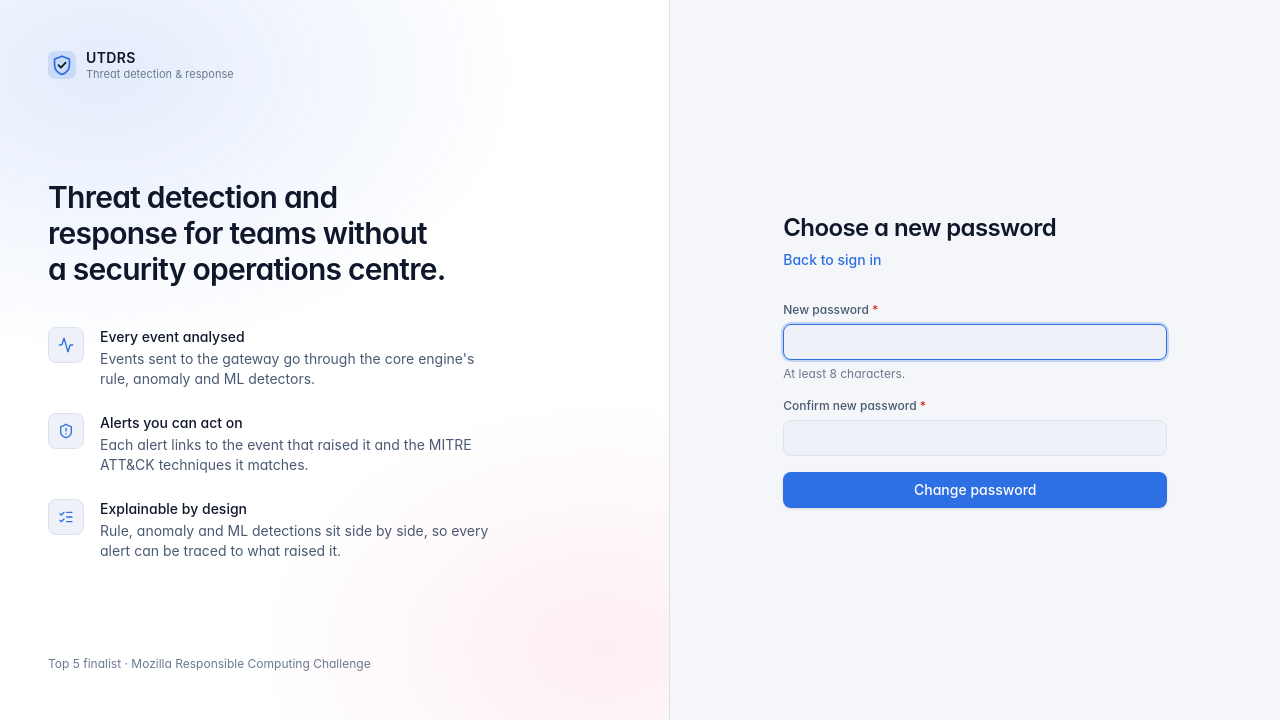
Test: account emails › explains an expired reset link
Step 1. Type "abcdefgh1" into the password field labelled "New password *" → (975, 342), box [783,324,1167,360]
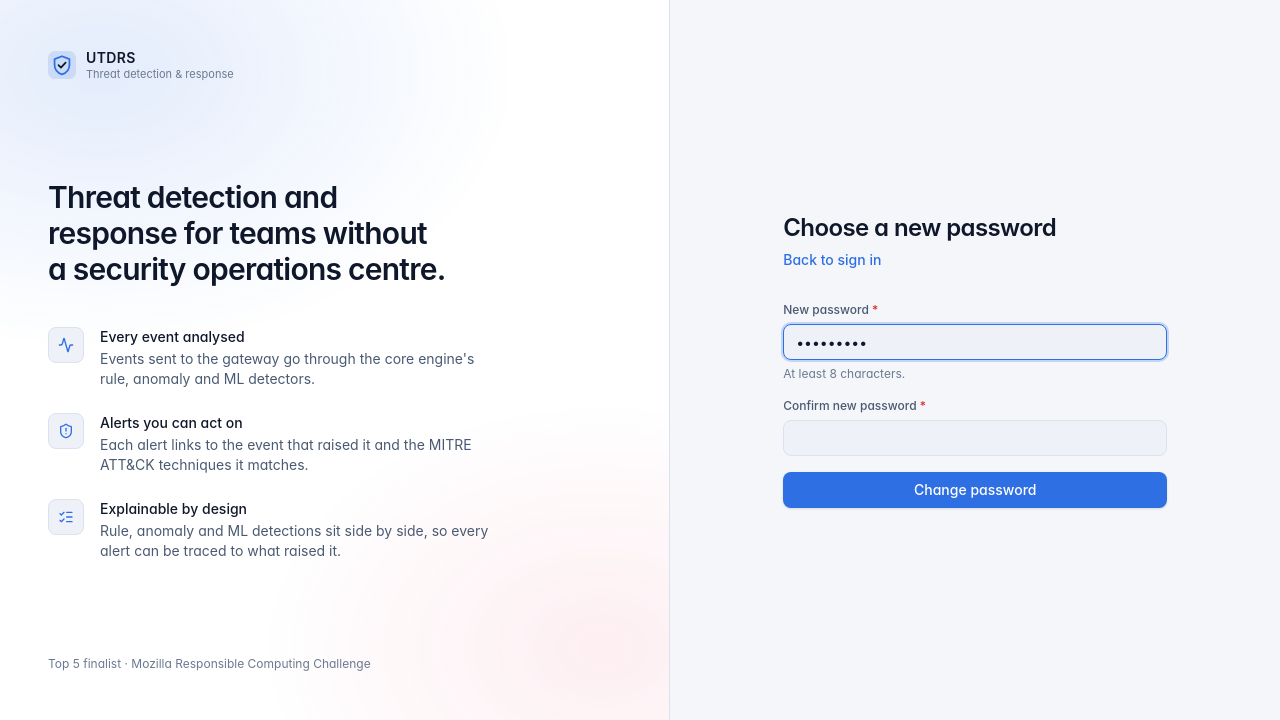
Step 2. Type "abcdefgh1" into the password field labelled "Confirm new password *" → (975, 438), box [783,420,1167,456]
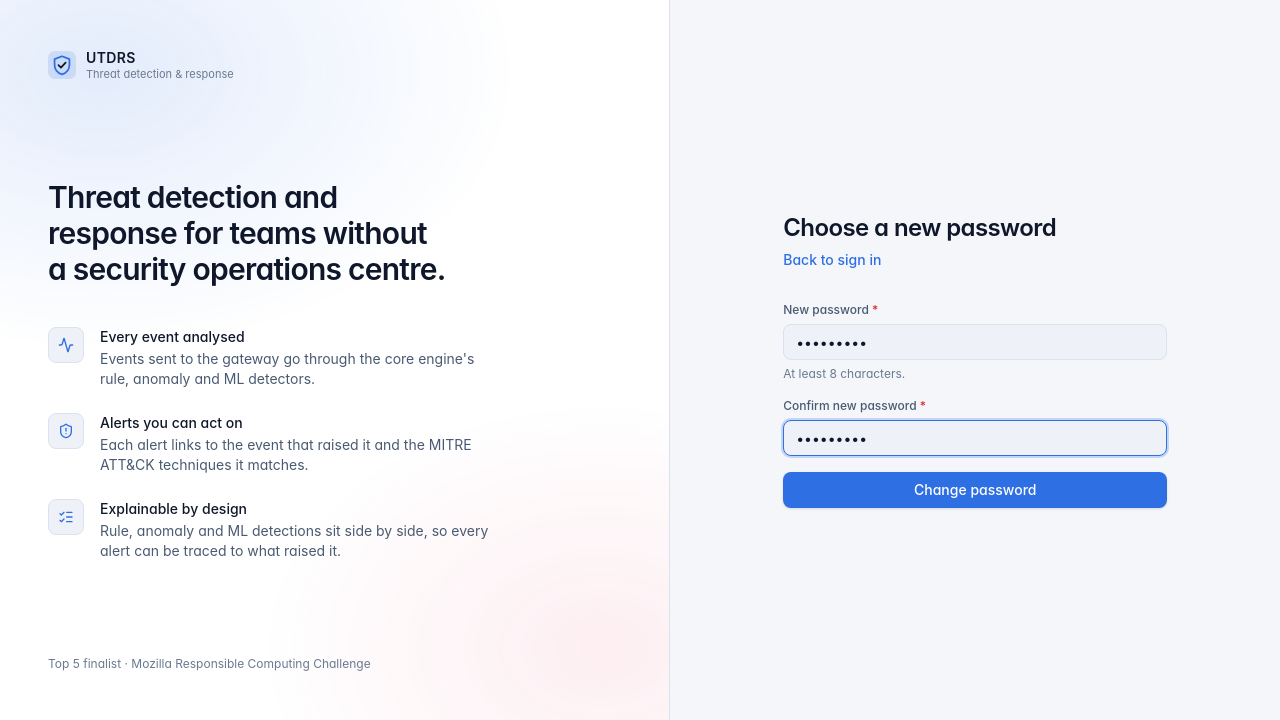
Step 3. Click the button "Change password" → (975, 490), box [783,472,1167,508]
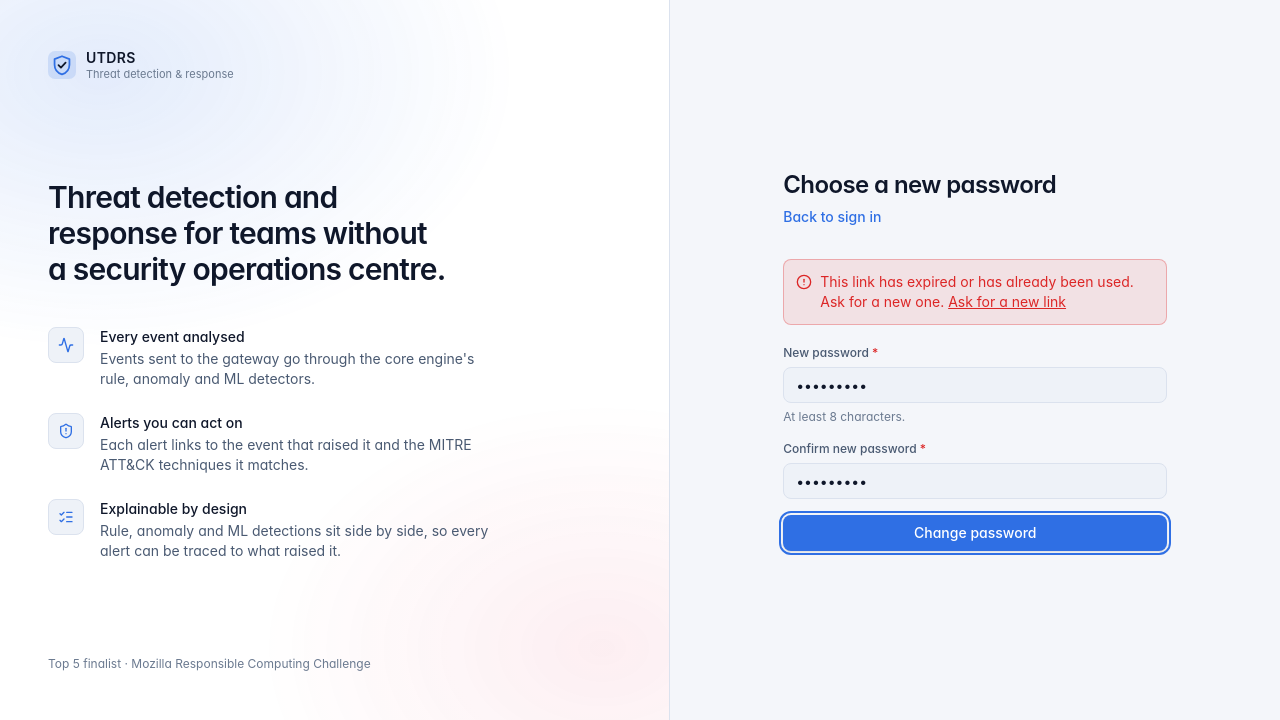
Now the text "has expired or has already been used" is shown, box [820,273,1134,310]
Now the link "Ask for a new link" is shown, box [948,293,1066,310]
